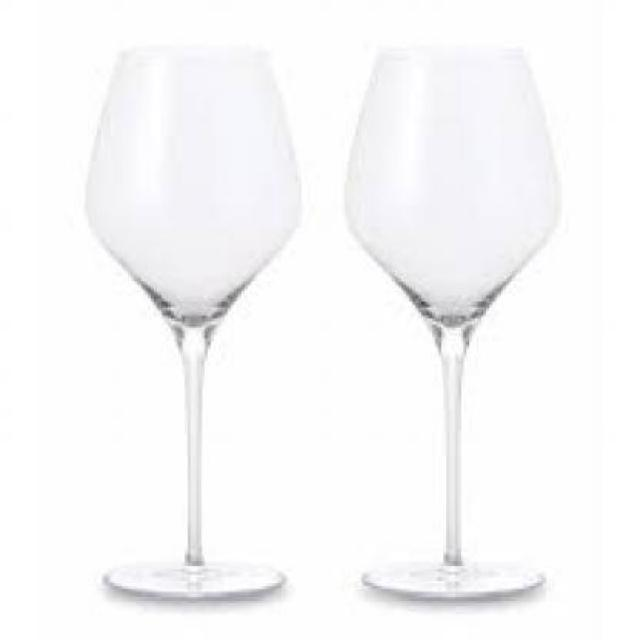kaca: (341, 47, 557, 596), (83, 43, 295, 594)
